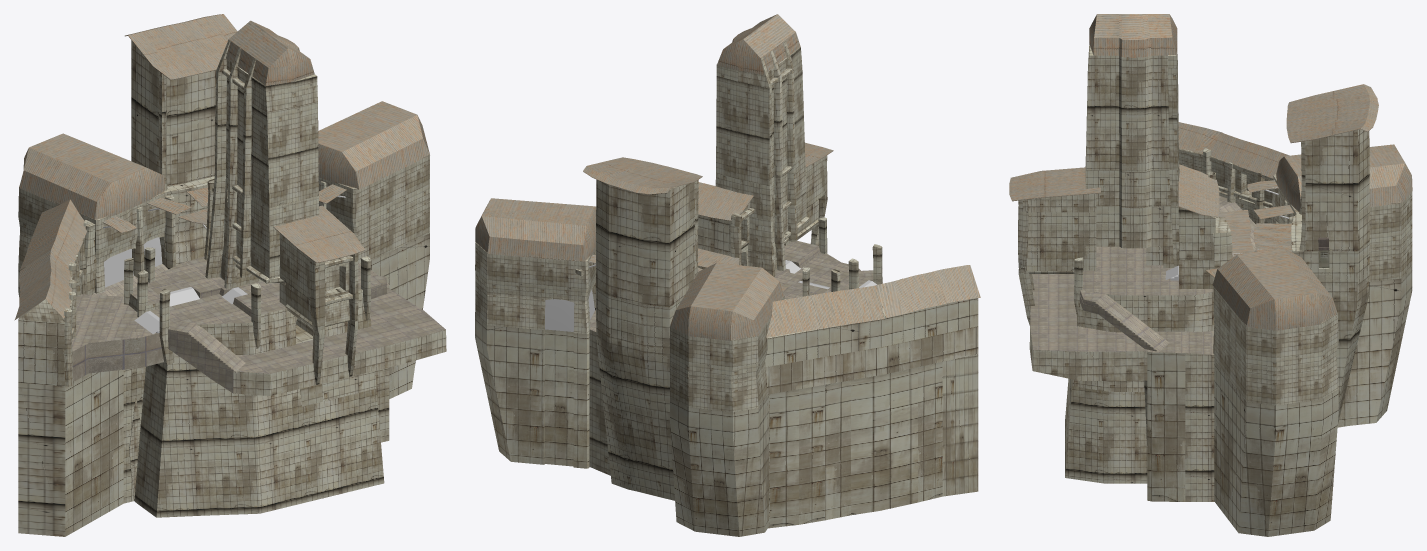
File: SM_LostCity_01_Block_00.fbx
3 renders of one model, left to right at view 1: azimuth 30°, elevation 25°; view 2: azimuth 150°, elevation 25°; view 3: azimuth 270°, elevation 25°, orthographic. The views are drawn at different scales.
Parts seen in each view (by area): view 1: SM_LostCity_01_Block_00, Cube.043, Cube.032, Cube.038, Cube.046, Cube.037, Cube.003, Cube.040, Cube.001, Cube.051; view 2: Cube.032, SM_LostCity_01_Block_00, Cube.043, Cube.038, Cube.040, Cube.046, Cube.051; view 3: Cube.032, Cube.043, SM_LostCity_01_Block_00, Cube.038, Cube.046, Cube.037, Cube.040, Cube.001.
Boxes of the visible parts, left/top/right/bottom form: SM_LostCity_01_Block_00: left=18, top=256, right=389, bottom=536; Cube.043: left=14, top=14, right=429, bottom=320; Cube.032: left=18, top=40, right=429, bottom=398; Cube.038: left=205, top=40, right=319, bottom=288; Cube.046: left=84, top=71, right=370, bottom=384; Cube.037: left=168, top=276, right=446, bottom=395; Cube.003: left=72, top=294, right=163, bottom=381; Cube.040: left=18, top=220, right=90, bottom=386; Cube.001: left=134, top=288, right=245, bottom=372; Cube.051: left=104, top=237, right=162, bottom=287; Cube.032: left=475, top=179, right=784, bottom=536; SM_LostCity_01_Block_00: left=589, top=241, right=978, bottom=528; Cube.043: left=475, top=14, right=980, bottom=340; Cube.038: left=715, top=40, right=809, bottom=277; Cube.040: left=575, top=269, right=978, bottom=394; Cube.046: left=592, top=155, right=882, bottom=310; Cube.051: left=545, top=289, right=594, bottom=331; Cube.032: left=1213, top=129, right=1412, bottom=536; Cube.043: left=1009, top=14, right=1412, bottom=330; SM_LostCity_01_Block_00: left=1065, top=246, right=1344, bottom=501; Cube.038: left=1085, top=45, right=1179, bottom=267; Cube.046: left=1018, top=141, right=1305, bottom=325; Cube.037: left=1029, top=274, right=1156, bottom=380; Cube.040: left=1179, top=148, right=1273, bottom=223; Cube.001: left=1095, top=266, right=1178, bottom=351.
Bounding box in the file's own units: 7386 × 6589 × 5627.
